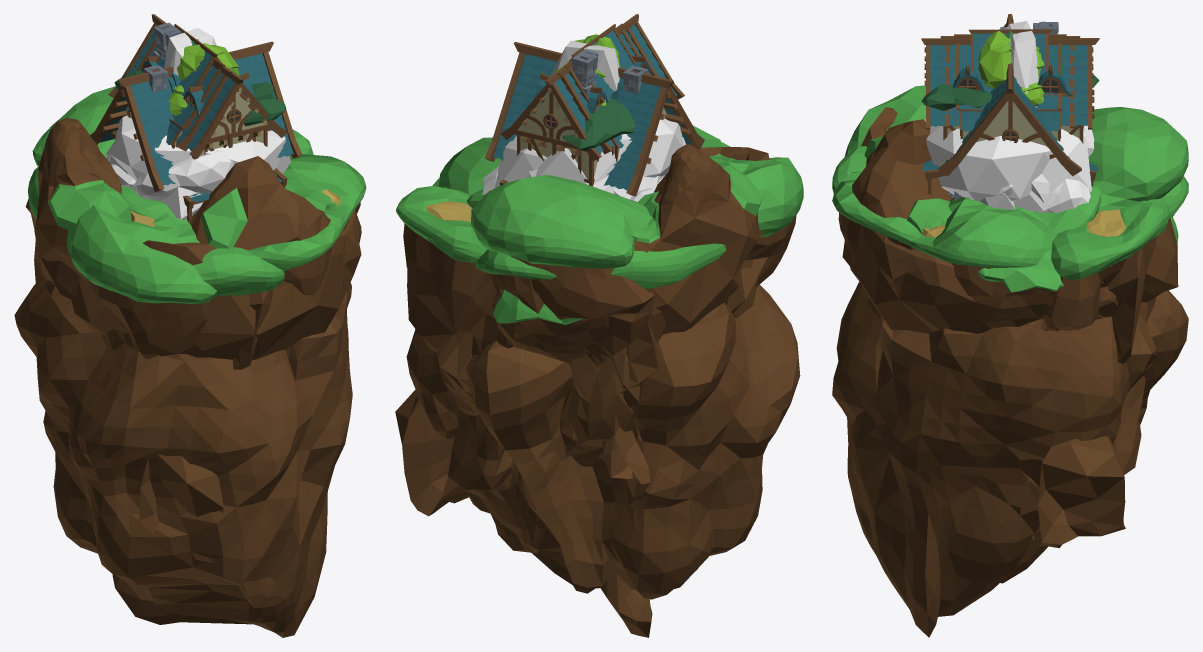
The model's file is floating_islands.obj.
3 views of the same model, side by side, from view 1: azimuth 30°, elevation 25°; view 2: azimuth 150°, elevation 25°; view 3: azimuth 270°, elevation 25° (orthographic). The views are drawn at different scales.
Visible parts, largest first — view 1: island, island_004, island_003, island_002, inn, island_006, house_2, rock_2, cloud, house_1, tree_generic_lod0, curved_tree_lod0 (+4 smaller); view 2: island, island_003, island_002, island_004, inn, island_006, house_2, rock_2, house_1, curved_tree_lod0, rock_1, rock_pillar_1 (+2 smaller); view 3: island, island_003, island_004, island_006, island_002, house_2, rock_2, inn, rock_1, tree_generic_lod0, rock_pillar_1, cloud (+4 smaller).
Part boxes in pixels (box(x1,y1,x2,y2)): island: box(14, 186, 352, 637); island_004: box(34, 118, 361, 359); island_003: box(34, 129, 313, 359); island_002: box(25, 86, 284, 563); inn: box(90, 41, 302, 222); island_006: box(28, 154, 366, 294); house_2: box(108, 14, 287, 193); rock_2: box(110, 115, 290, 181); cloud: box(105, 143, 233, 200); house_1: box(136, 20, 271, 151); tree_generic_lod0: box(168, 43, 239, 115); curved_tree_lod0: box(114, 69, 286, 147); island: box(406, 189, 800, 637); island_003: box(395, 157, 803, 553); island_002: box(471, 142, 730, 505); island_004: box(432, 125, 769, 363); inn: box(484, 42, 704, 196); island_006: box(439, 137, 735, 450); house_2: box(500, 14, 684, 186); rock_2: box(528, 118, 683, 183); house_1: box(556, 20, 658, 154); curved_tree_lod0: box(563, 98, 635, 150); rock_1: box(495, 136, 665, 201); rock_pillar_1: box(550, 40, 619, 91); island: box(832, 185, 1188, 637); island_003: box(844, 85, 1178, 548); island_004: box(842, 107, 1178, 333); island_006: box(832, 171, 1188, 331); island_002: box(832, 107, 1188, 281); house_2: box(921, 27, 1099, 197); rock_2: box(926, 125, 1094, 201); inn: box(921, 14, 1098, 200); rock_1: box(1013, 128, 1091, 210); tree_generic_lod0: box(978, 31, 1044, 105); rock_pillar_1: box(1005, 21, 1038, 107); cloud: box(930, 125, 1090, 213).
Bounding box in the file's own units: 2 × 3.59 × 2.
